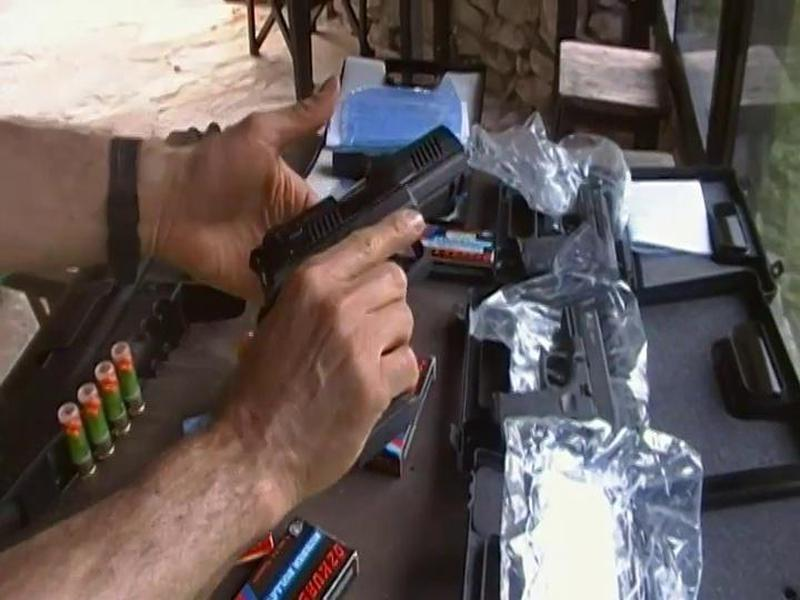Pistola: (246, 101, 476, 350)
